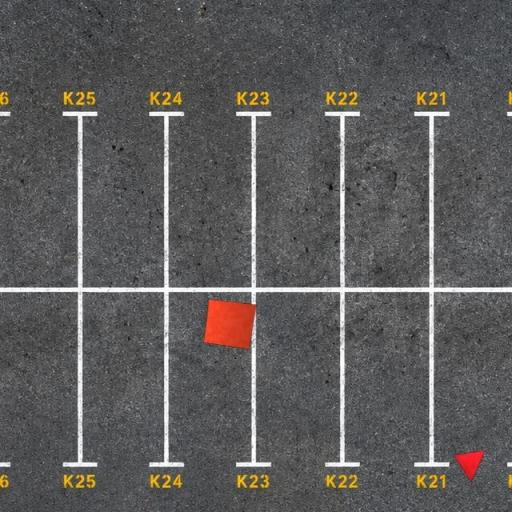RED_SQUARE: (203, 298, 257, 350)
